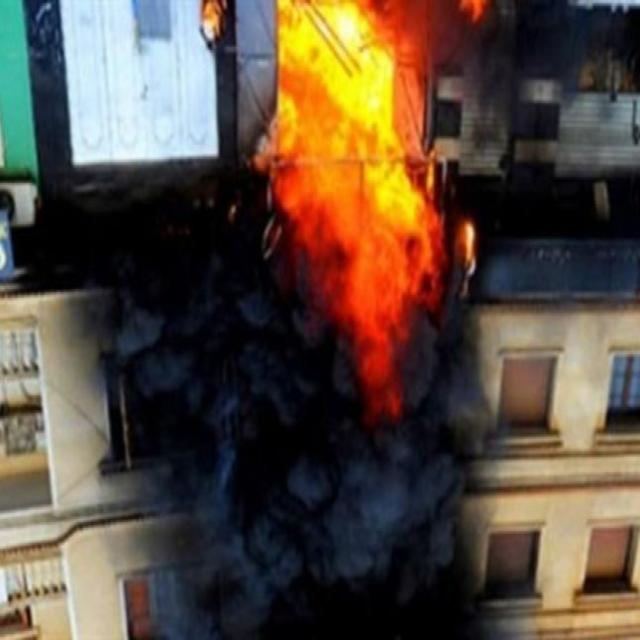fire: (261, 10, 497, 402)
